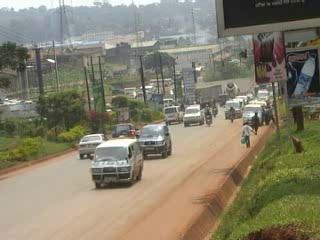Car: (75, 129, 109, 160), (110, 122, 141, 143), (180, 102, 204, 128)
Motorcycle: (202, 106, 213, 128), (207, 99, 219, 118), (226, 107, 236, 124)
